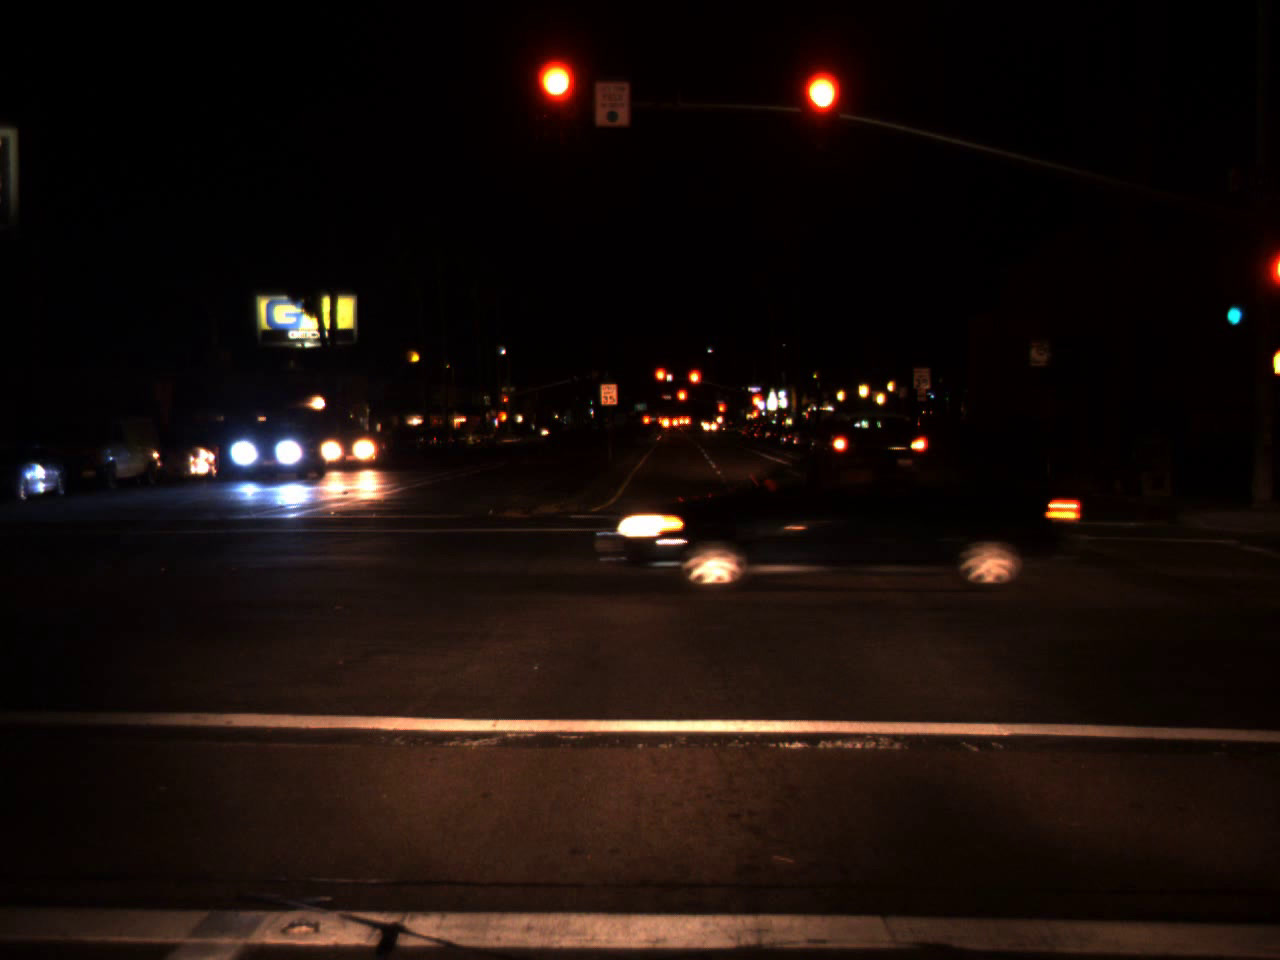stop: (536, 61, 577, 139), (801, 72, 840, 150), (686, 366, 703, 401), (653, 366, 669, 395), (674, 387, 689, 414), (749, 392, 764, 408), (717, 402, 726, 423), (503, 395, 509, 408)
